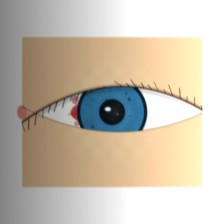hemorrhage_spot: (59, 78, 145, 147)
